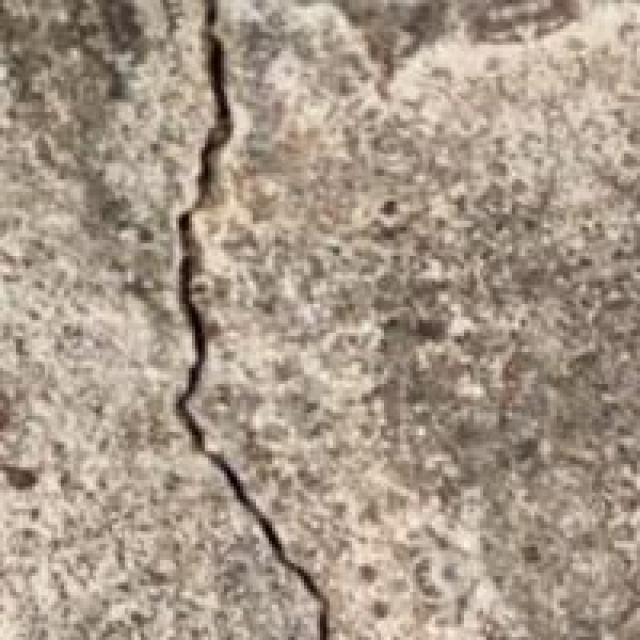Crack: (96, 0, 352, 637)
